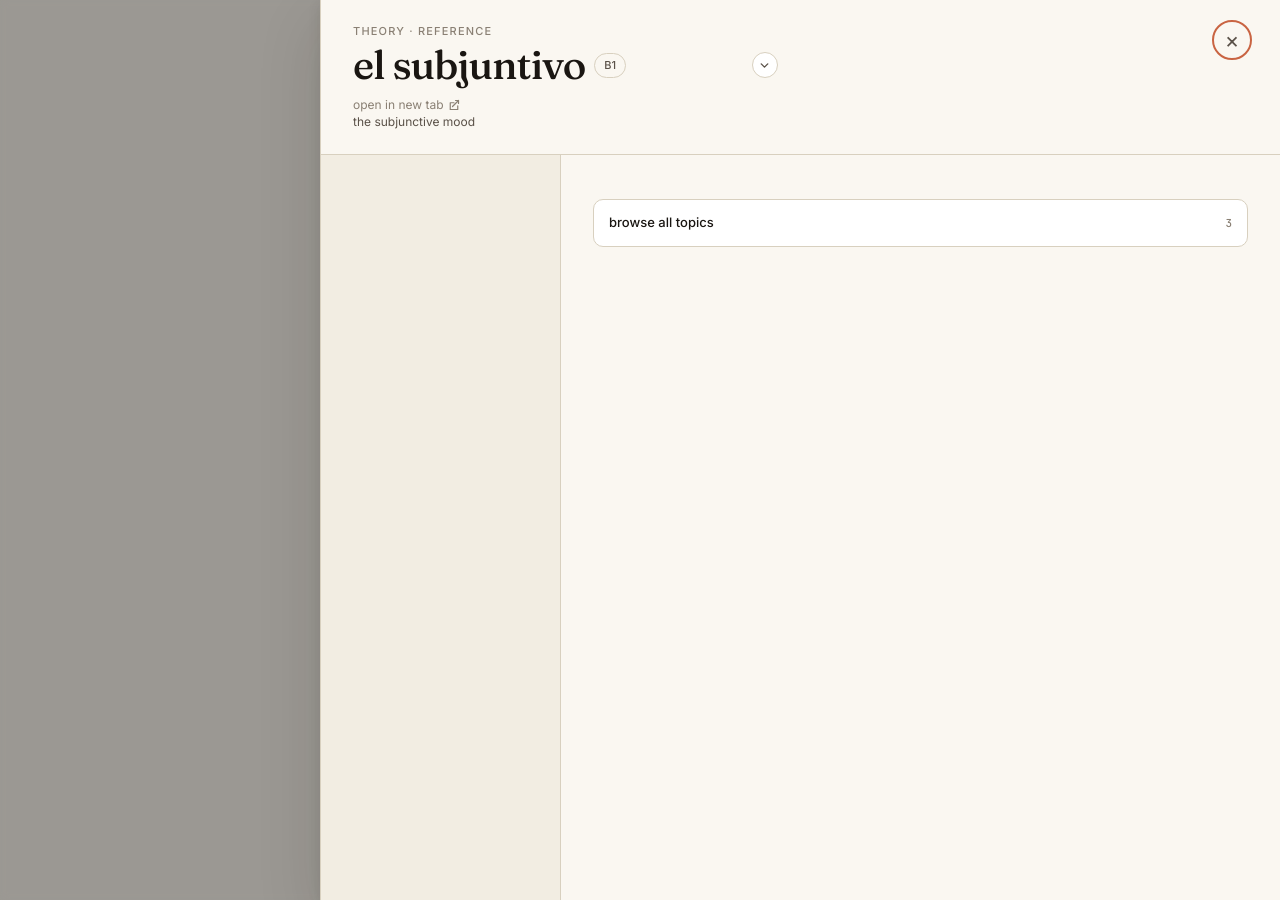
Scenario: TheoryPanel › mobile (≤760px) › swaps the topic when a sheet row is picked
Step 1. Click the button "el subjuntivo B1" → point(565, 65), box top-left (353, 43), bottom-right (778, 87)
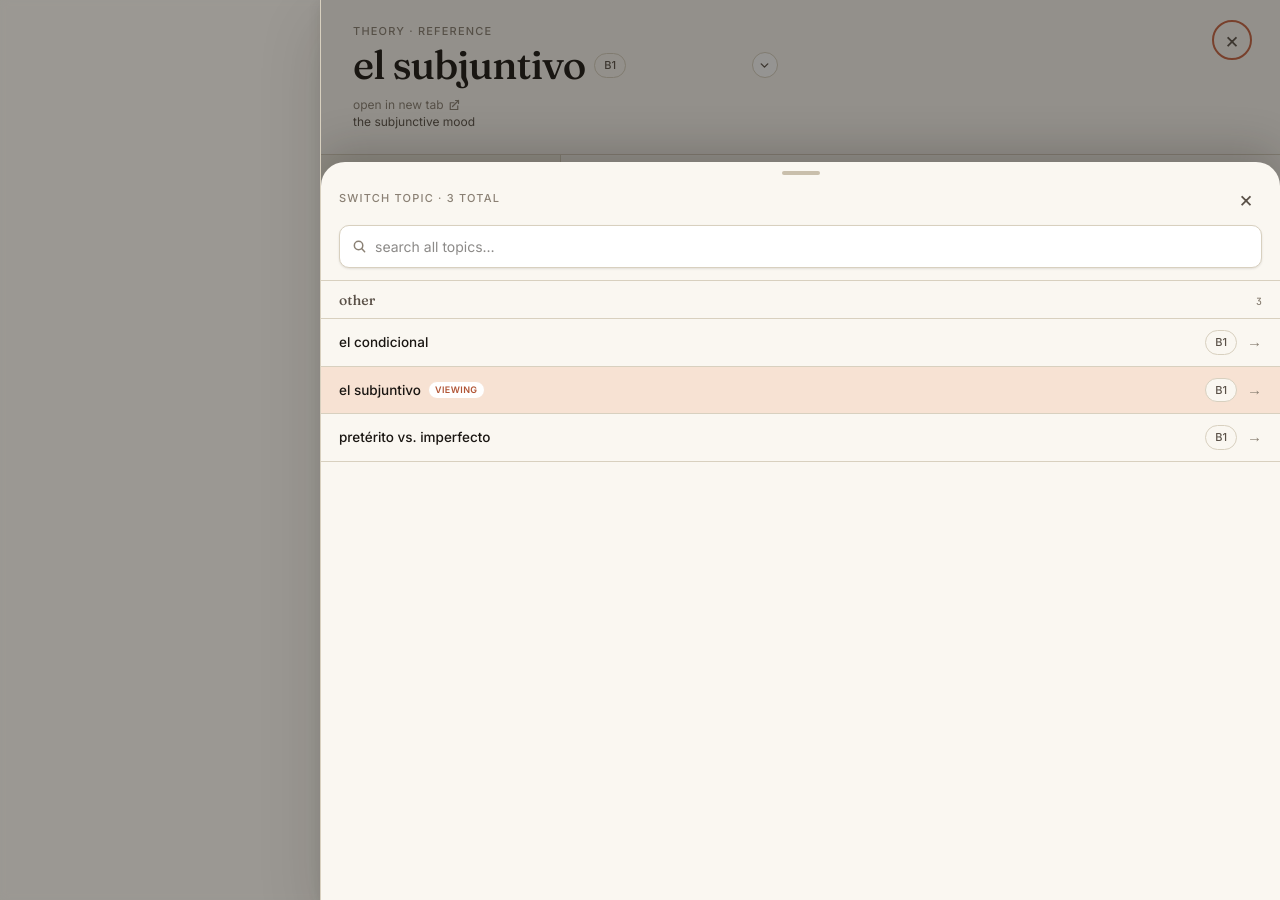
Step 2. Click the button "pretérito vs. imperfecto B1 →" → point(415, 437), box top-left (321, 414), bottom-right (1279, 462)
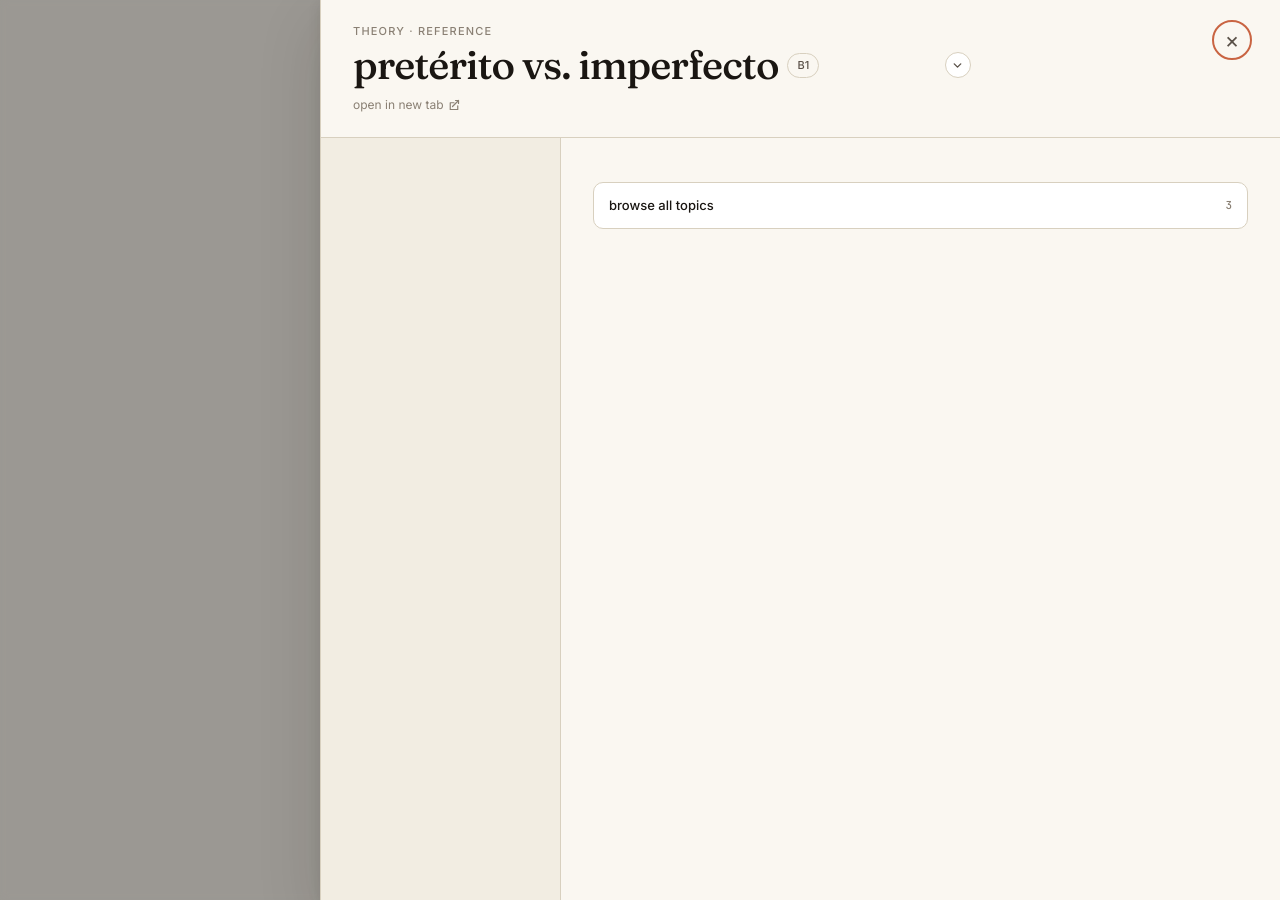
Expected: the search field labelled "search all topics" is not shown
Expected: the button "pretérito vs. imperfecto B1" is shown, top-left (353, 43), bottom-right (971, 87)
